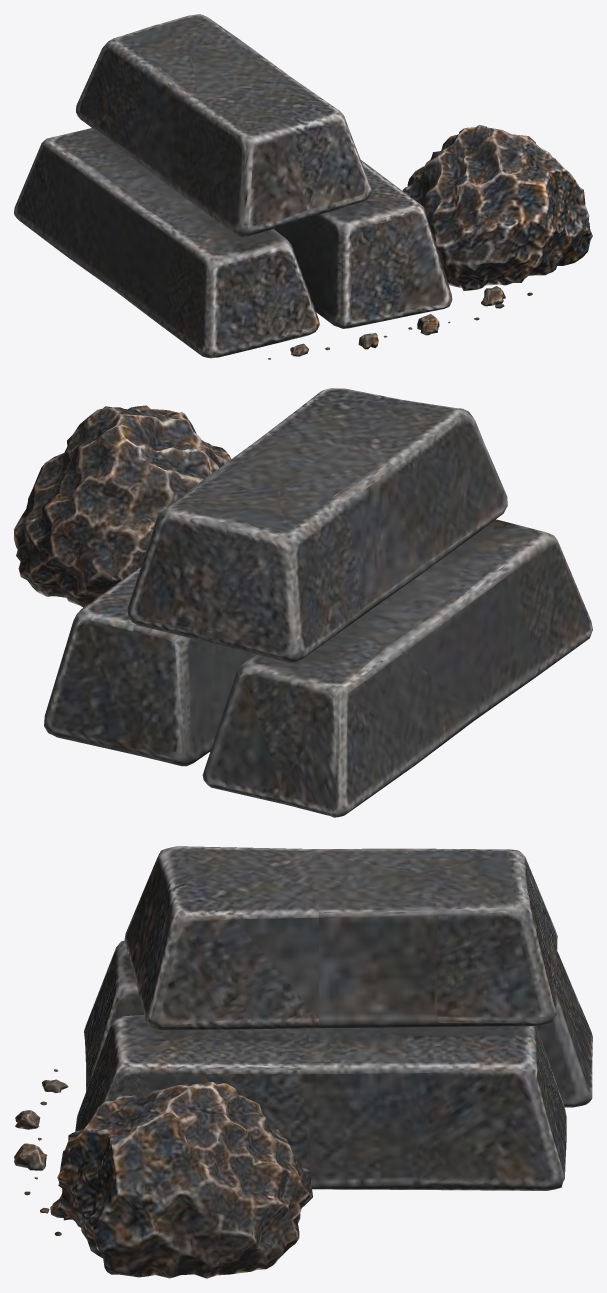
The model's file is res_ferro.glb.
3 renders of one model, top to bottom at view 1: azimuth 30°, elevation 25°; view 2: azimuth 150°, elevation 25°; view 3: azimuth 270°, elevation 25°, orthographic. The views are drawn at different scales.
Bounding box in the file's own units: 0.9541 × 0.4243 × 0.9336.
Materials: 1 (1 with a texture image).
